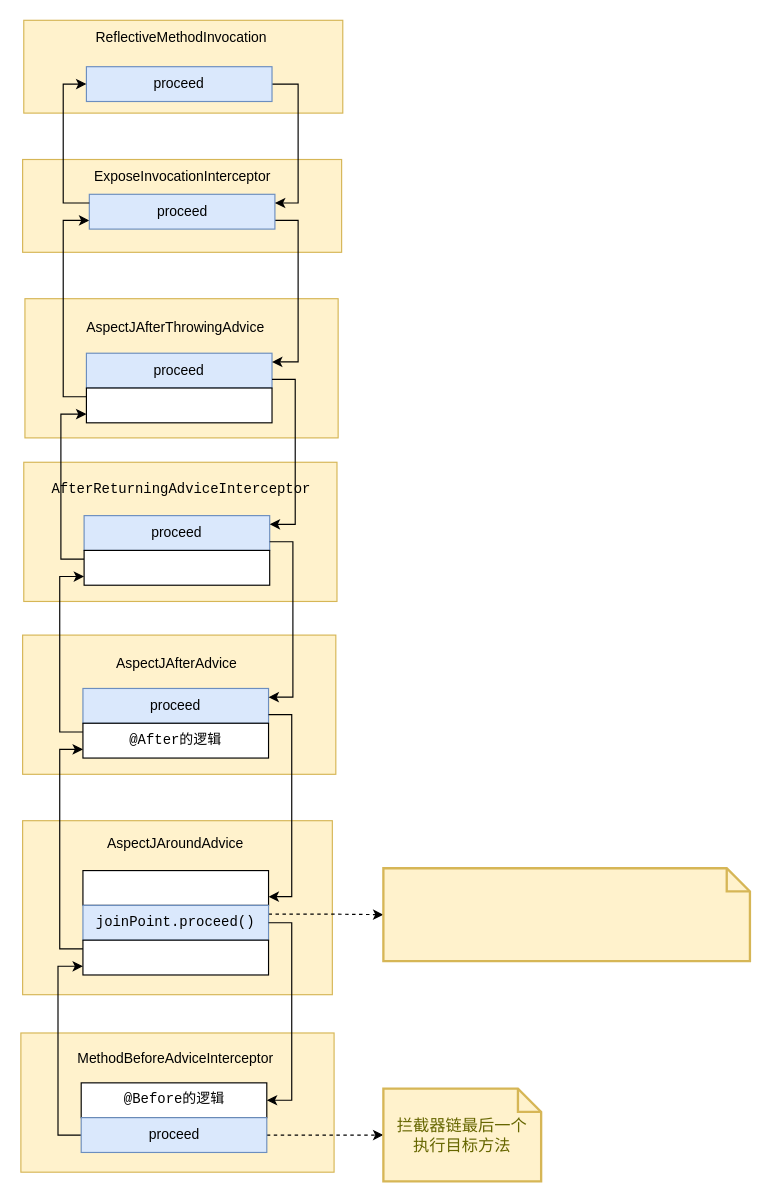
This 770x1203 diagram has some shape labels left out. The shapes that lost their labels are listed below. From the top down, each one's centre as x and y in pixels, then its label:
the point at 178,405: @AfterThrowing的逻辑
the point at 176,567: @AfterReturning的逻辑
the point at 175,887: @Around方法前逻辑
the point at 566,914: joinPoint.proceed会调用到 ReflectiveMethodInvocation#proceed
the point at 175,957: @Around方法后逻辑
